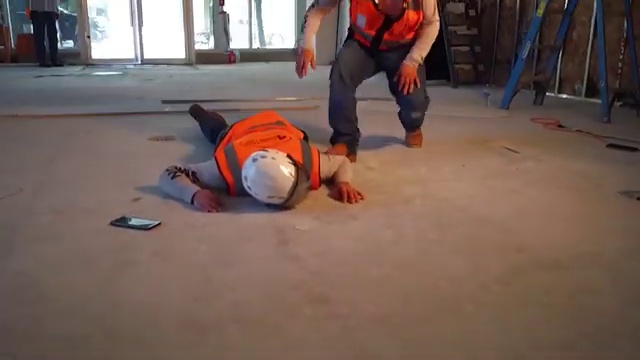helmet: (225, 153, 311, 203)
jacket: (219, 112, 312, 149)
